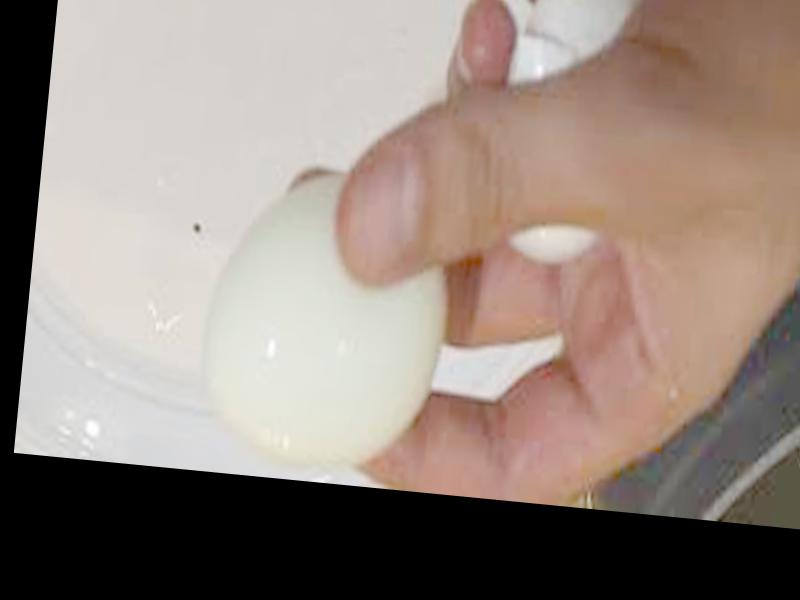Eggs: (198, 160, 458, 488)
